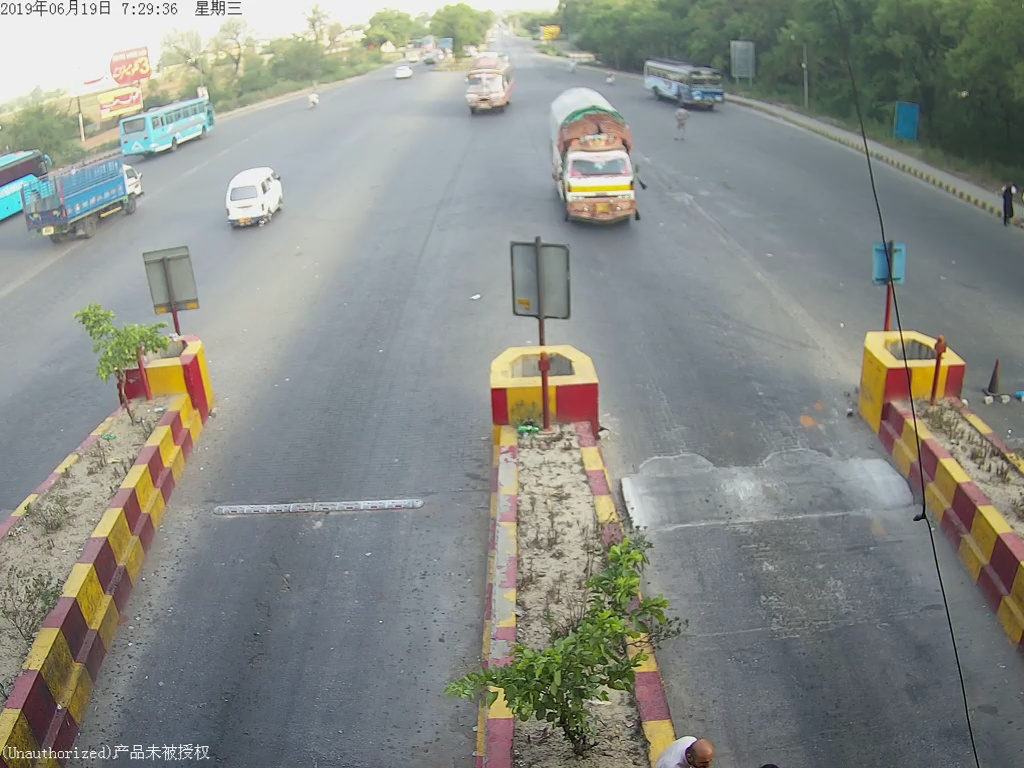Cat-3: (457, 53, 519, 122)
Cat-4: (545, 86, 652, 233)
